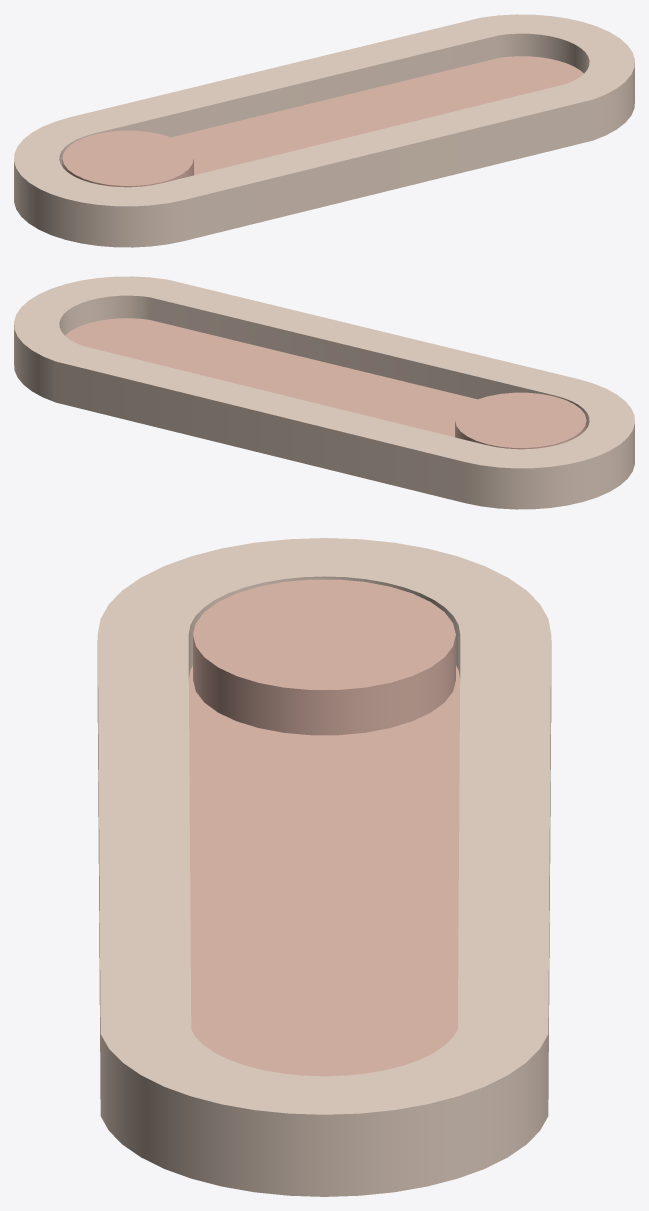
The model's file is Slider.glb.
The picture shows the model from 3 angles, top to bottom: view 1: azimuth 30°, elevation 25°; view 2: azimuth 150°, elevation 25°; view 3: azimuth 270°, elevation 25°; orthographic projection. The views are drawn at different scales.
Visible parts, largest first — view 1: Bar, Slider; view 2: Bar, Slider; view 3: Bar, Slider.
Boxes of the visible parts, <box> form: Bar: <box>14,14,634,247</box>; Slider: <box>62,130,193,187</box>; Bar: <box>14,276,634,509</box>; Slider: <box>455,392,586,449</box>; Bar: <box>97,538,551,1196</box>; Slider: <box>193,579,455,735</box>.
Bounding box in the file's own units: 1.5 × 0.1 × 0.5.
